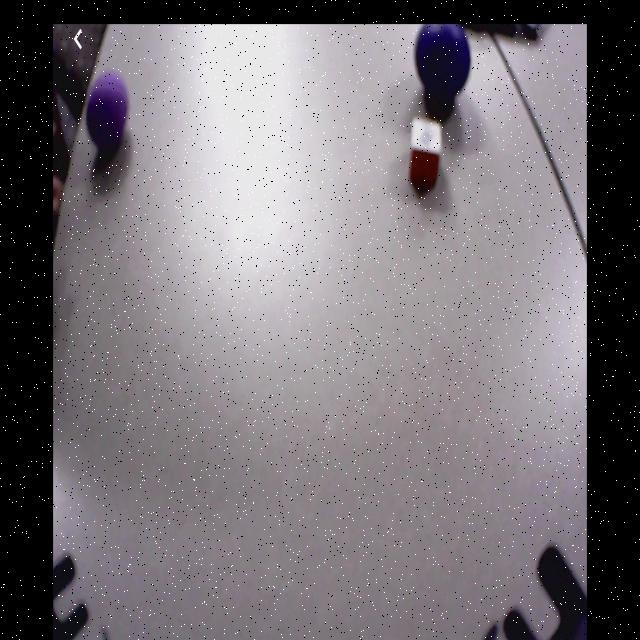ball: (414, 24, 471, 100), (85, 76, 130, 146)
